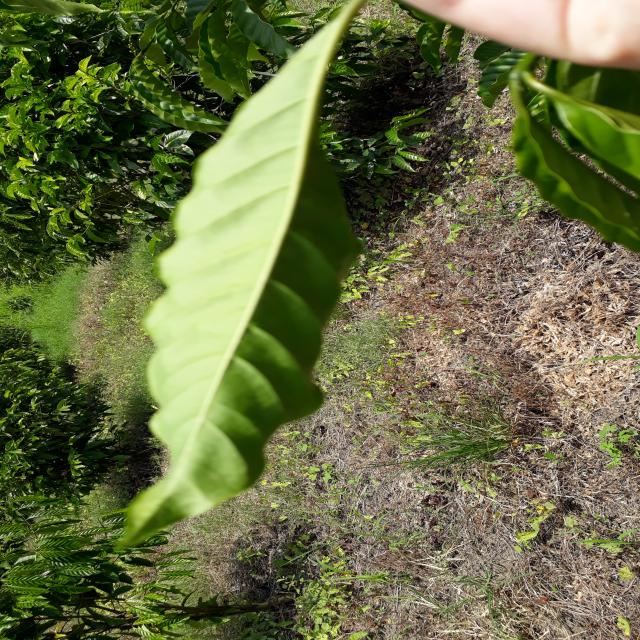Sanas: (119, 0, 362, 550)
